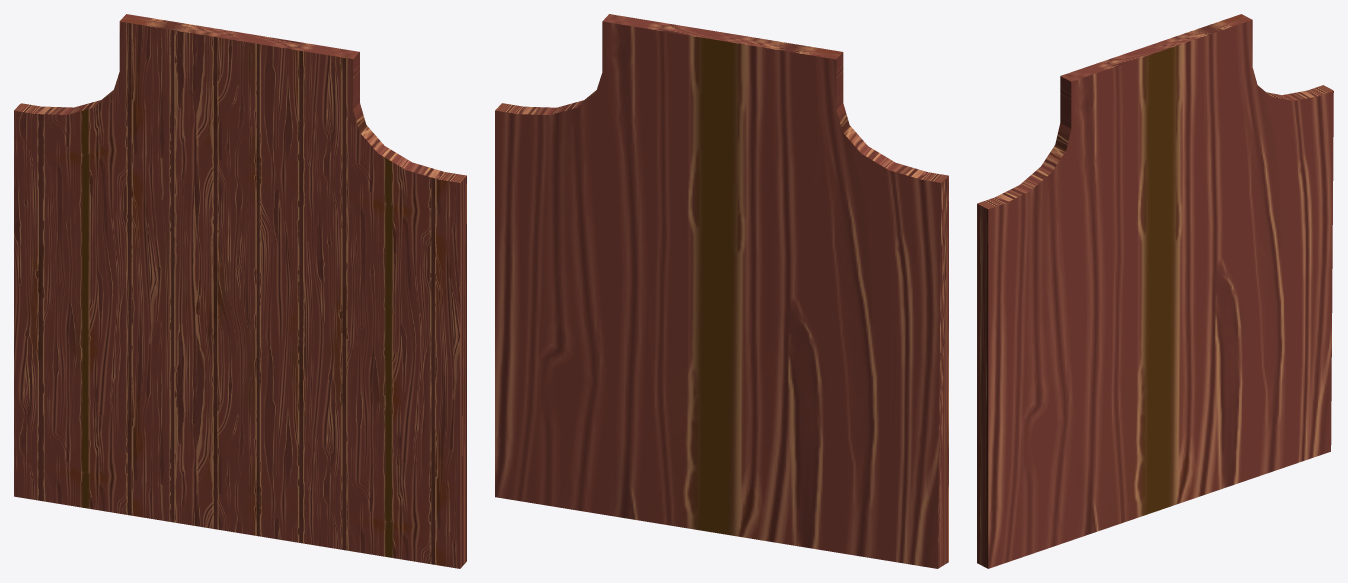
3 views of the same model, side by side, from view 1: azimuth 30°, elevation 25°; view 2: azimuth 210°, elevation 25°; view 3: azimuth 270°, elevation 25° (orthographic). The views are drawn at different scales.
Visible parts, largest first — view 1: Cube.642; view 2: Cube.642; view 3: Cube.642.
Boxes of the visible parts, x1,y1,x2,y2 form: Cube.642: [14, 14, 466, 568]; Cube.642: [495, 14, 948, 568]; Cube.642: [977, 14, 1333, 568].
Bounding box in the file's own units: 566 × 974 × 687.
1 material, 1 textured.
